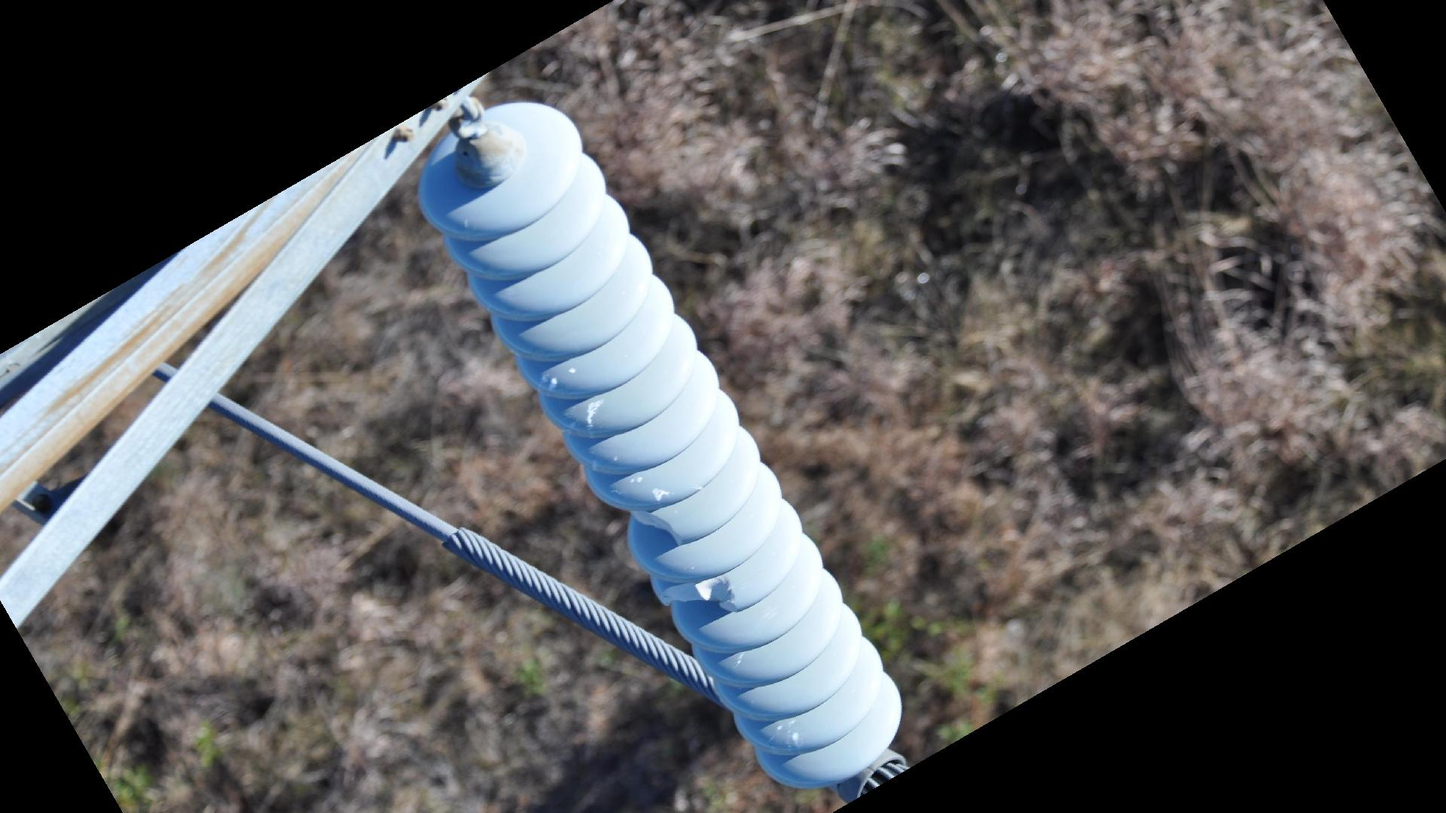insulator: (411, 96, 912, 795)
insulator_breakage: (653, 571, 742, 616)
